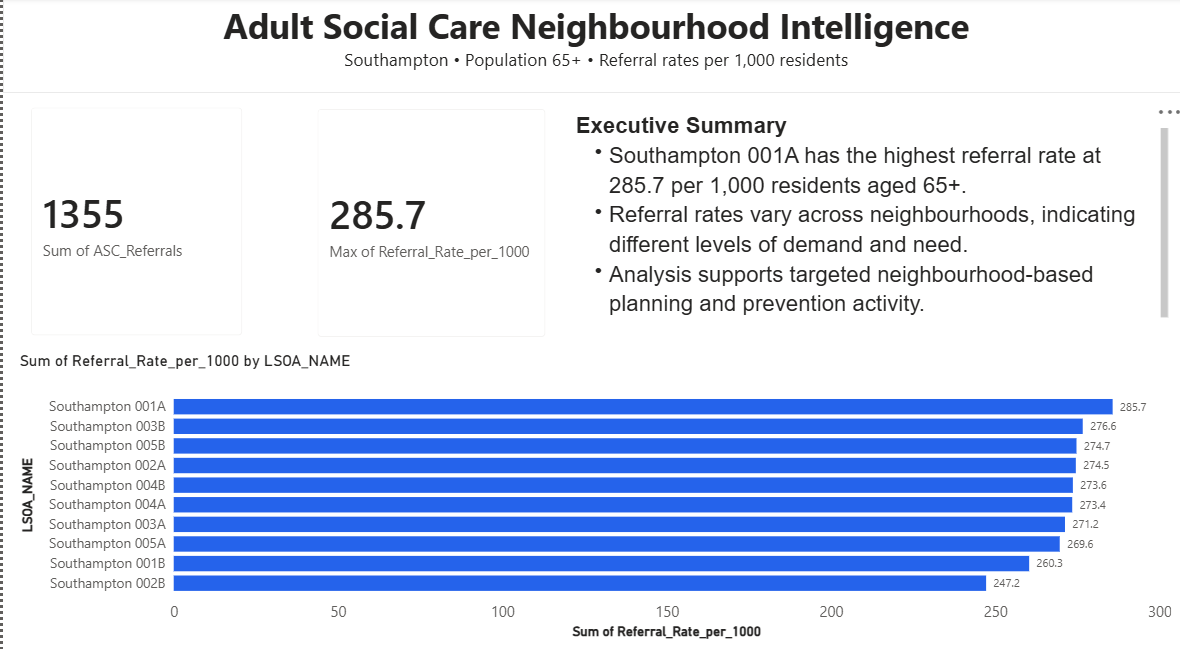

The dashboard page shown, as its layout file describes it:
{"tool":"powerbi","page":{"name":"Overview","canvas":[1280,720],"ordinal":0},"visuals":[{"type":"cardVisual","fields":{"Data":["Sum(asc_integrated_dataset.ASC_Referrals)"]},"box":[13,102,262.3,280.1],"z":0},{"type":"cardVisual","fields":{"Data":["Max(asc_integrated_dataset.Referral_Rate_per_1000)"]},"box":[322.2,103.6,280,280],"z":1000},{"type":"clusteredBarChart","fields":{"Y":["Sum(asc_integrated_dataset.Referral_Rate_per_1000)"],"Category":["asc_integrated_dataset.LSOA_NAME"]},"box":[13,382.1,1253.3,315.7],"z":2000},{"type":"textbox","box":[613.7,119.8,649.3,239.6],"z":3000},{"type":"textbox","box":[0,0,1280.8,103.6],"z":4000}]}

Visuals, with their boxes in screenshot pixels (x1, y1, x2, y2), scaled from the page's 1280x720 canvas onto the 1180x649 screenshot:
cardVisual - Sum(asc_integrated_dataset.ASC_Referrals): [12, 92, 254, 344]
cardVisual - Max(asc_integrated_dataset.Referral_Rate_per_1000): [297, 93, 555, 346]
clusteredBarChart - Sum(asc_integrated_dataset.Referral_Rate_per_1000) x asc_integrated_dataset.LSOA_NAME: [12, 344, 1167, 629]
textbox: [566, 108, 1164, 324]
textbox: [0, 0, 1179, 93]
